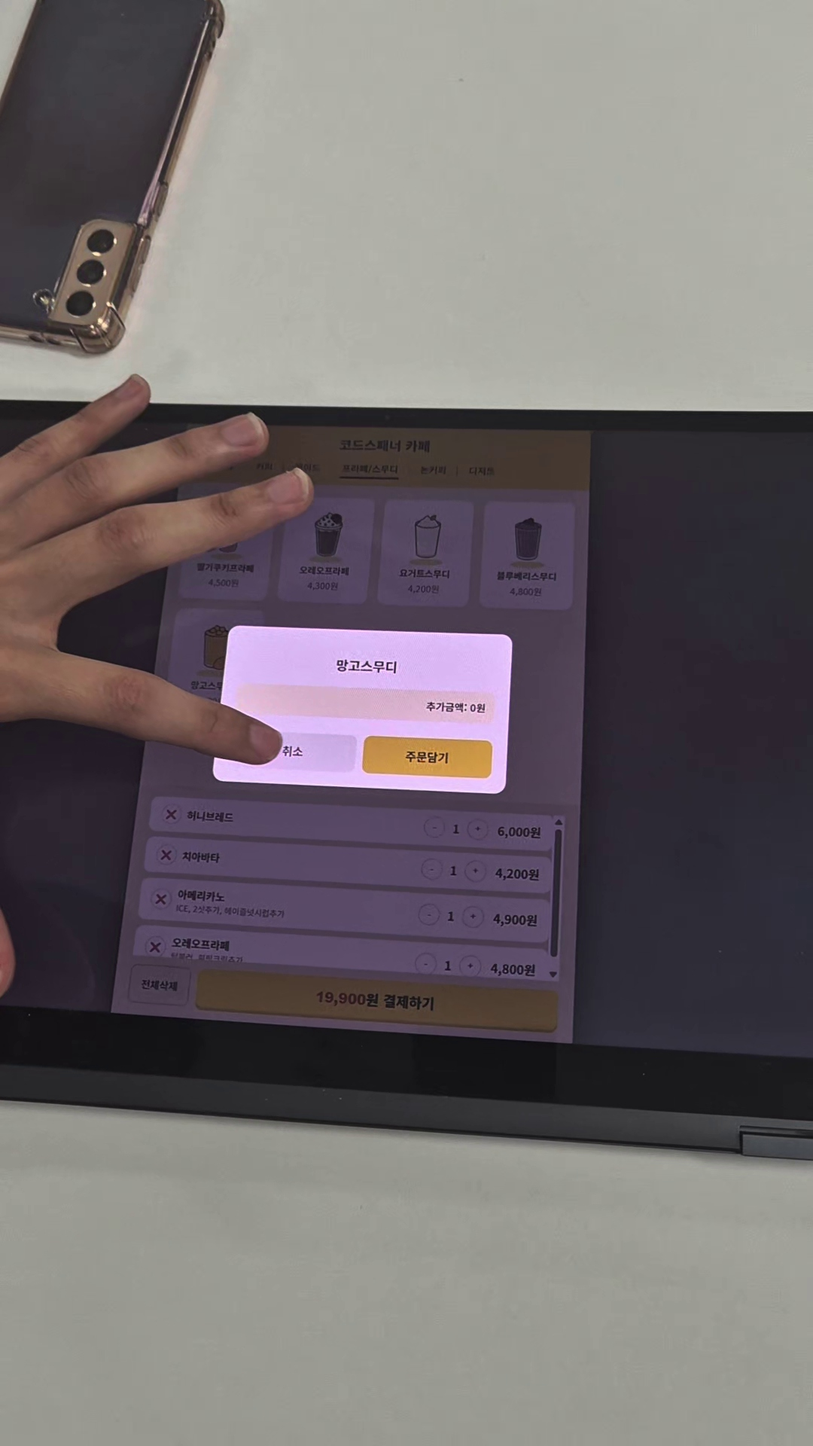action_button: (196, 969, 560, 1032), (363, 735, 492, 779), (238, 729, 356, 771), (127, 965, 190, 1005)
cart_item: (139, 879, 549, 942), (133, 925, 546, 984), (144, 838, 550, 893), (150, 797, 554, 850)
category_tab: (341, 463, 399, 478), (417, 464, 448, 479), (466, 464, 497, 478)
menu_back: (480, 501, 576, 610), (165, 608, 264, 711), (378, 499, 473, 606), (278, 498, 373, 604)
popup_modal: (210, 625, 513, 795)
